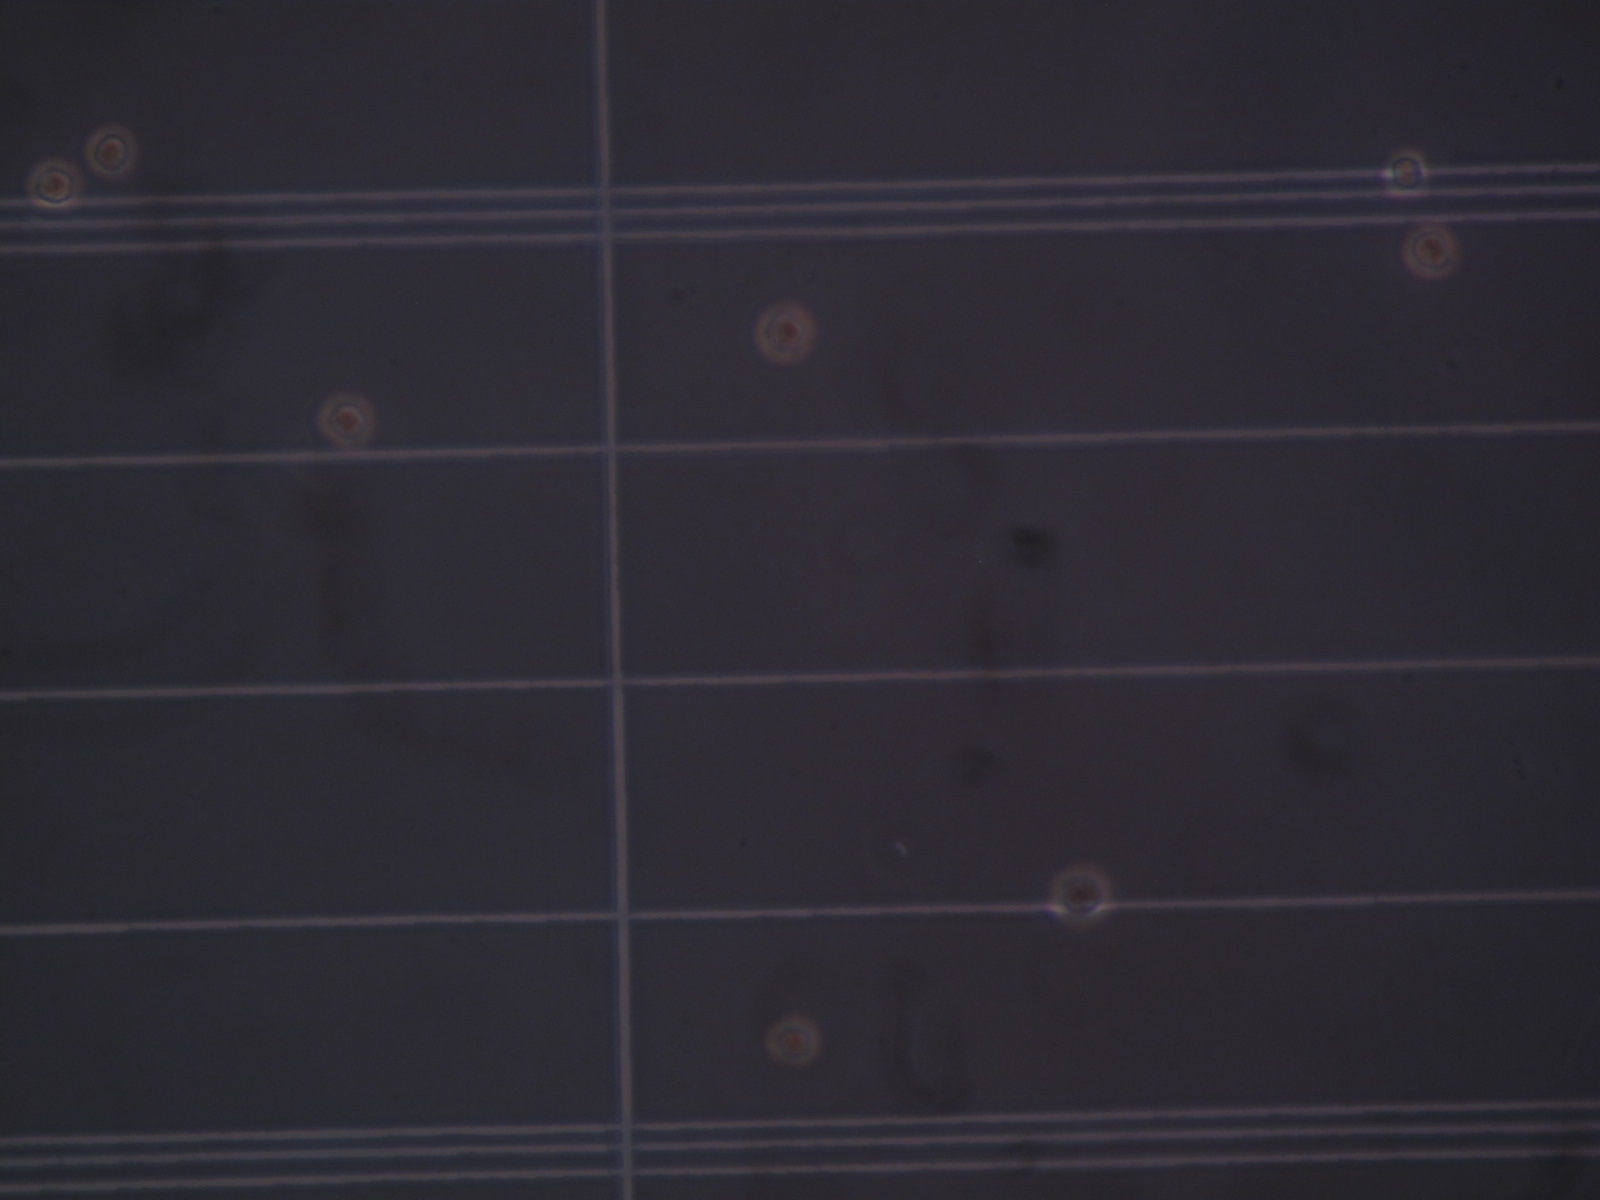hemo: (1047, 863, 1111, 925), (753, 303, 815, 364), (317, 391, 375, 446), (1401, 223, 1458, 279), (26, 159, 83, 211), (84, 124, 139, 176), (766, 1016, 821, 1066), (1382, 147, 1429, 198)
